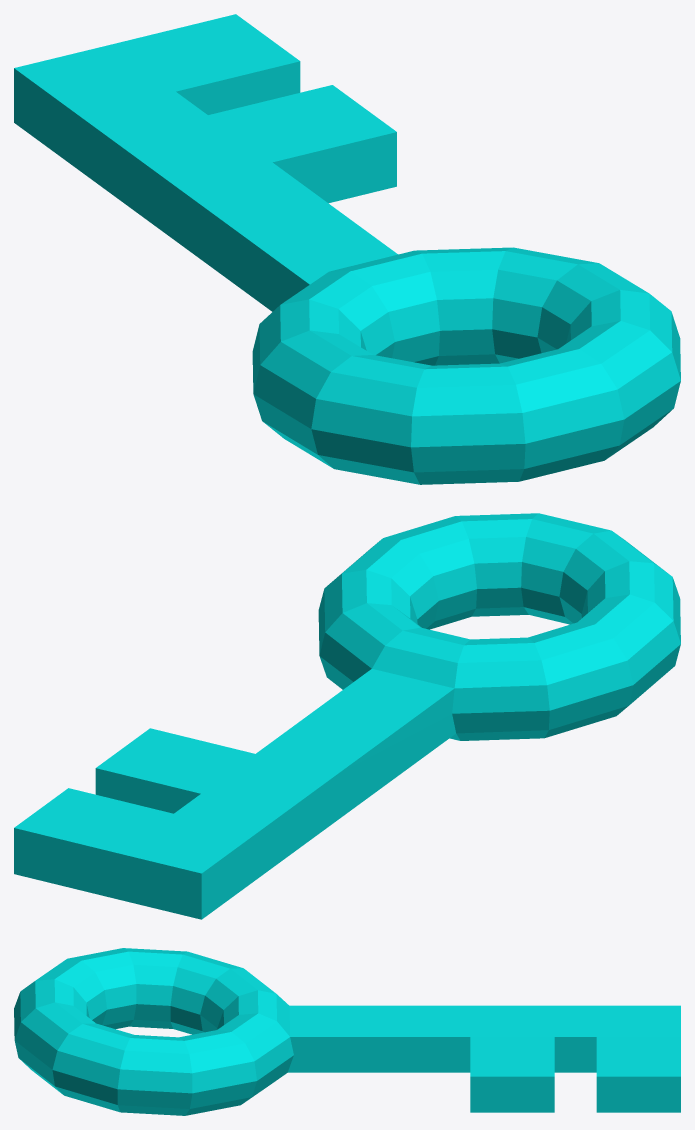
File: m_key.fbx
The picture shows the model from 3 angles, top to bottom: view 1: azimuth 30°, elevation 25°; view 2: azimuth 150°, elevation 25°; view 3: azimuth 270°, elevation 25°; orthographic projection. The views are drawn at different scales.
Visible parts, largest first — view 1: sm_key; view 2: sm_key; view 3: sm_key.
Boxes of the visible parts, x1=… form: sm_key: x1=14, y1=14, x2=680, y2=484; sm_key: x1=14, y1=513, x2=680, y2=919; sm_key: x1=14, y1=948, x2=680, y2=1115.
Size of the model in its own units: 91.69 by 30.03 by 218.
